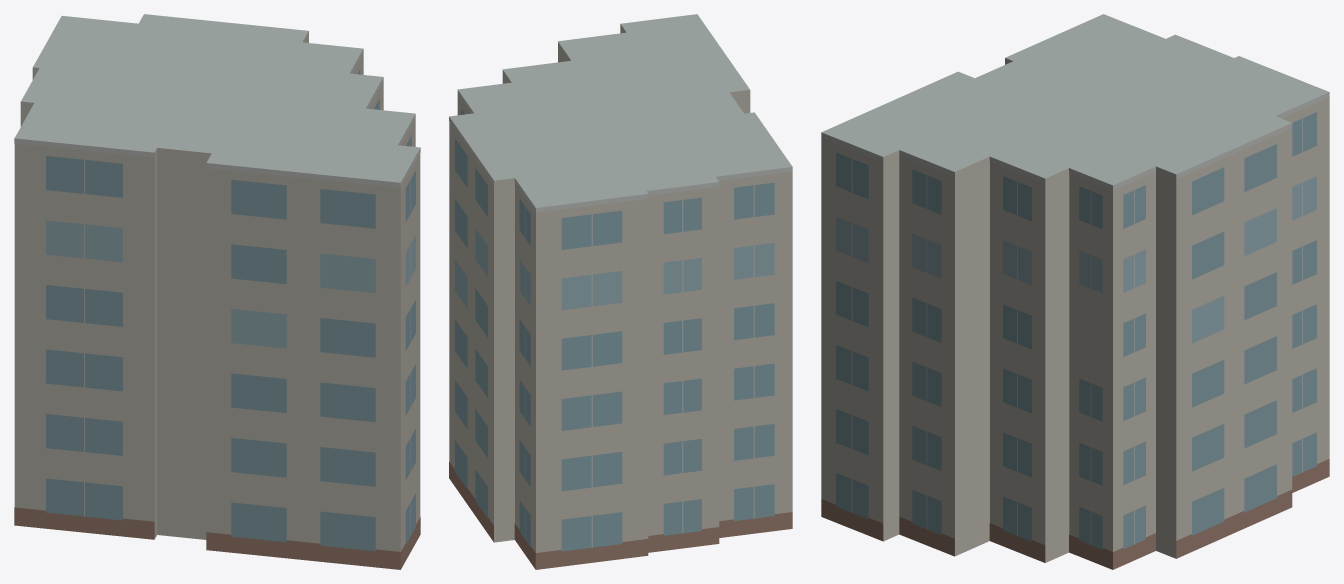
Rendered from survey-upis-32667794.glb.
3 renders of one model, left to right at view 1: azimuth 30°, elevation 25°; view 2: azimuth 150°, elevation 25°; view 3: azimuth 270°, elevation 25°, orthographic. The views are drawn at different scales.
Visible parts, largest first — view 1: survey-upis-32667794.tmp; view 2: survey-upis-32667794.tmp; view 3: survey-upis-32667794.tmp.
Part boxes in pixels (x1=…): survey-upis-32667794.tmp: x1=14, y1=14, x2=420, y2=569; survey-upis-32667794.tmp: x1=449, y1=14, x2=792, y2=569; survey-upis-32667794.tmp: x1=821, y1=14, x2=1329, y2=569.
Bounding box in the file's own units: 17.51 × 18.3 × 21.94.
